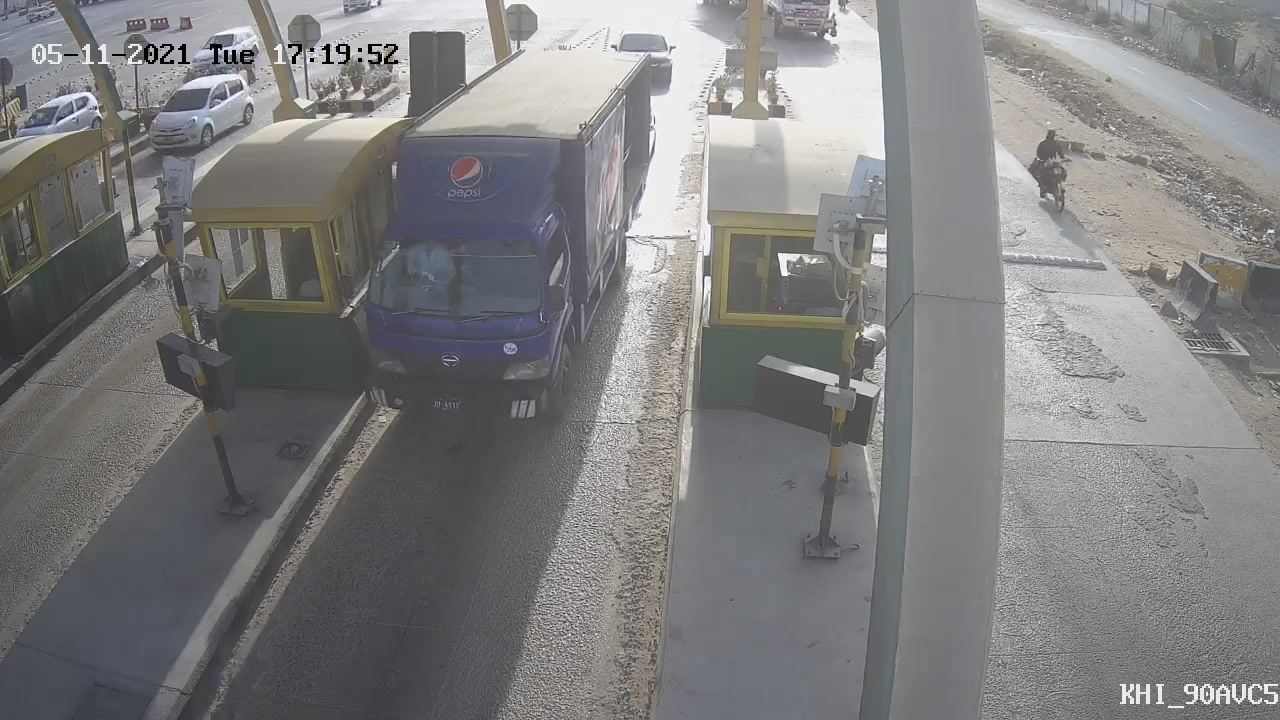F5: (309, 33, 683, 469)
